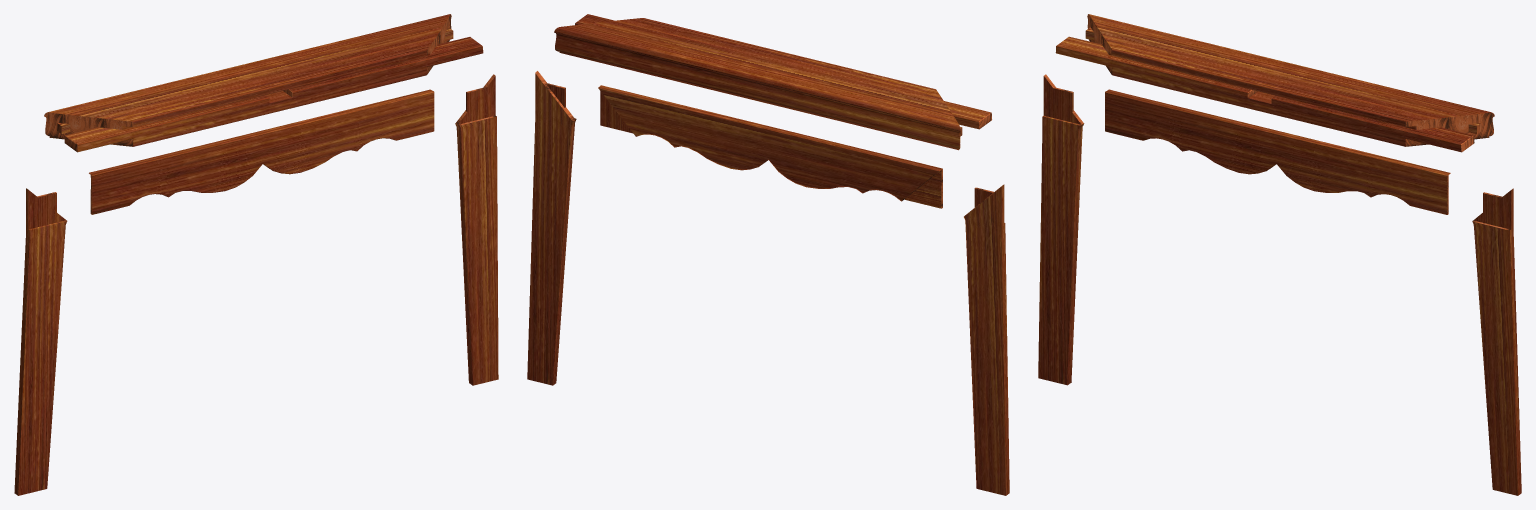
Rendered from GMY_J_dabian_01.FBX.
3 views of the same model, side by side, from view 1: azimuth 30°, elevation 25°; view 2: azimuth 150°, elevation 25°; view 3: azimuth 330°, elevation 25° (orthographic).
Parts seen in each view (by area): view 1: GMY_J_dabian_01, GMY_J_humenjuankou, GMY_J_humence_02, GMY_J_humence_01; view 2: GMY_J_dabian_01, GMY_J_humenjuankou, GMY_J_humence_02, GMY_J_humence_01; view 3: GMY_J_dabian_01, GMY_J_humenjuankou, GMY_J_humence_02, GMY_J_humence_01.
Part boxes in pixels (x1,y1,x2,y2): GMY_J_dabian_01: [44, 14, 483, 152]; GMY_J_humenjuankou: [89, 89, 434, 214]; GMY_J_humence_02: [14, 188, 67, 495]; GMY_J_humence_01: [455, 74, 498, 385]; GMY_J_dabian_01: [554, 14, 991, 150]; GMY_J_humenjuankou: [598, 85, 942, 208]; GMY_J_humence_02: [964, 184, 1009, 495]; GMY_J_humence_01: [527, 71, 576, 385]; GMY_J_dabian_01: [1055, 14, 1494, 152]; GMY_J_humenjuankou: [1105, 89, 1450, 214]; GMY_J_humence_02: [1038, 74, 1084, 385]; GMY_J_humence_01: [1472, 188, 1521, 495].
Size of the model in its own units: 68.2 by 49.86 by 8.04.
